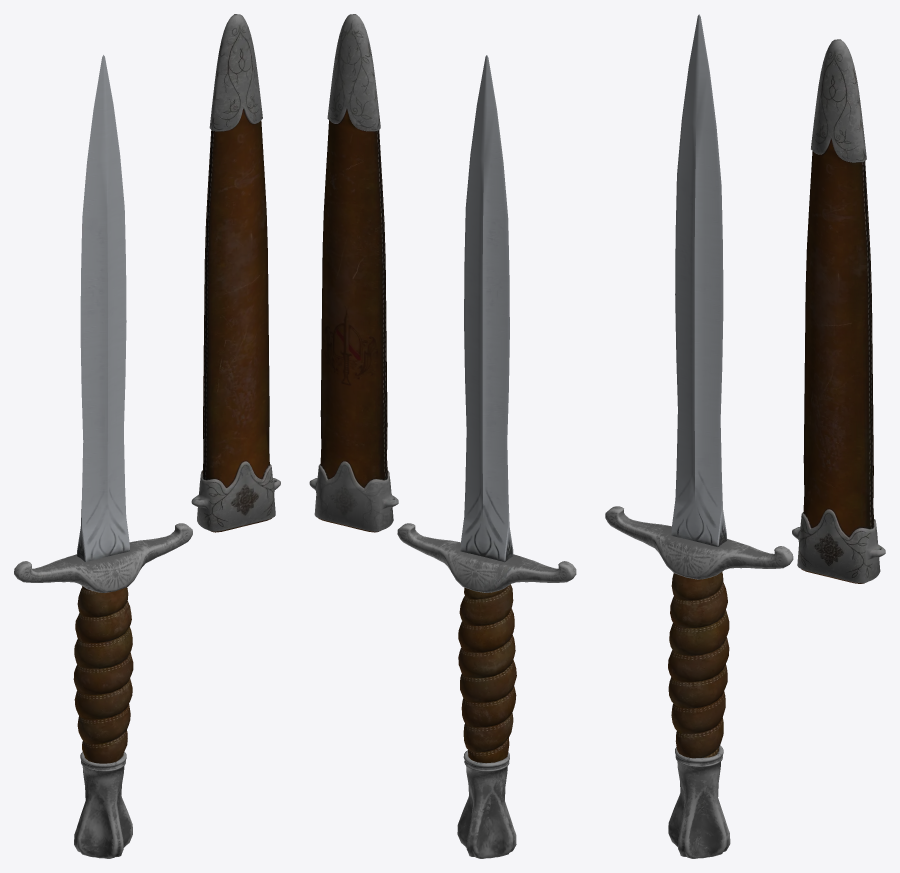
The model's file is ornate_medieval_dagger.gltf.
3 views of the same model, side by side, from view 1: azimuth 30°, elevation 25°; view 2: azimuth 150°, elevation 25°; view 3: azimuth 330°, elevation 25° (orthographic). The views are drawn at different scales.
Visible parts, largest first — view 1: ornate_medieval_dagger, ornate_medieval_dagger_scabbard; view 2: ornate_medieval_dagger, ornate_medieval_dagger_scabbard; view 3: ornate_medieval_dagger, ornate_medieval_dagger_scabbard.
Boxes of the visible parts, box(x1,y1,x2,y2) form: ornate_medieval_dagger: box(14, 55, 192, 858); ornate_medieval_dagger_scabbard: box(191, 14, 280, 532); ornate_medieval_dagger: box(397, 55, 576, 858); ornate_medieval_dagger_scabbard: box(309, 14, 398, 532); ornate_medieval_dagger: box(605, 14, 793, 858); ornate_medieval_dagger_scabbard: box(792, 39, 885, 583).
Bounding box in the file's own units: 0.1201 × 0.3489 × 0.025.
Materials: 1 (1 with a texture image).
